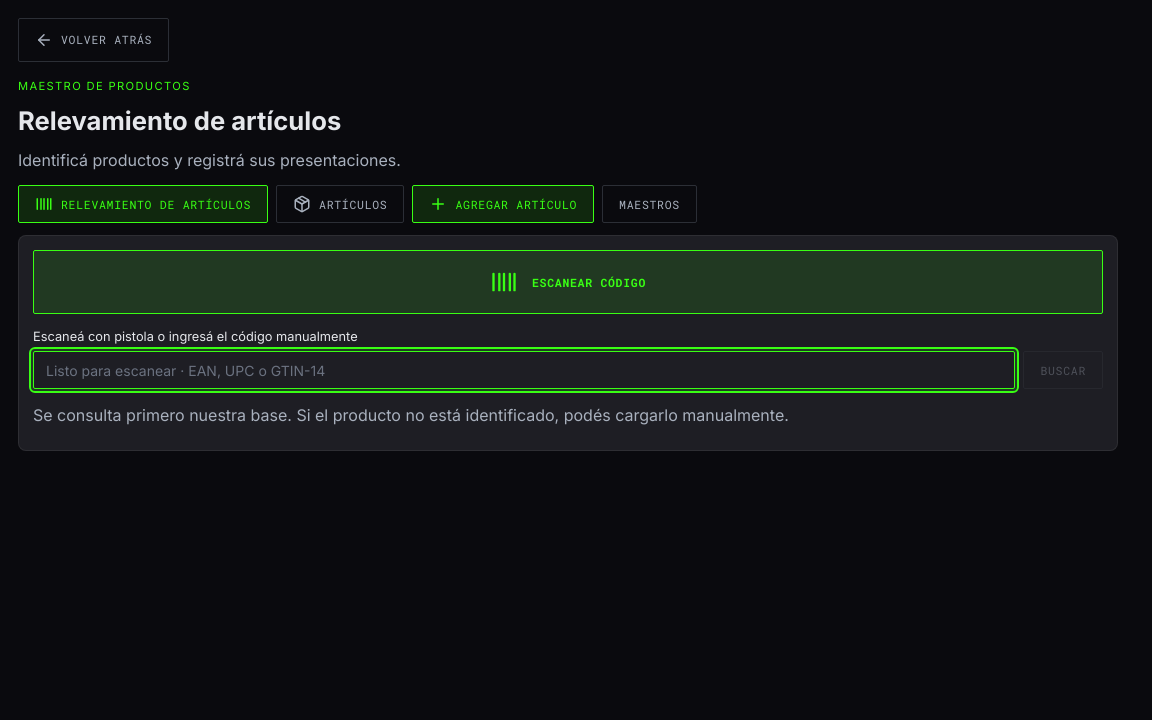
flujo artículos › vacía y vuelve a enfocar la entrada si una lectura de pistola no puede consultarse
This screenshot has width=1152, height=720.
In the field labelled "Escaneá con pistola o ingresá el código manualmente": (524, 370) [33,352,1015,390], type "012345678905"
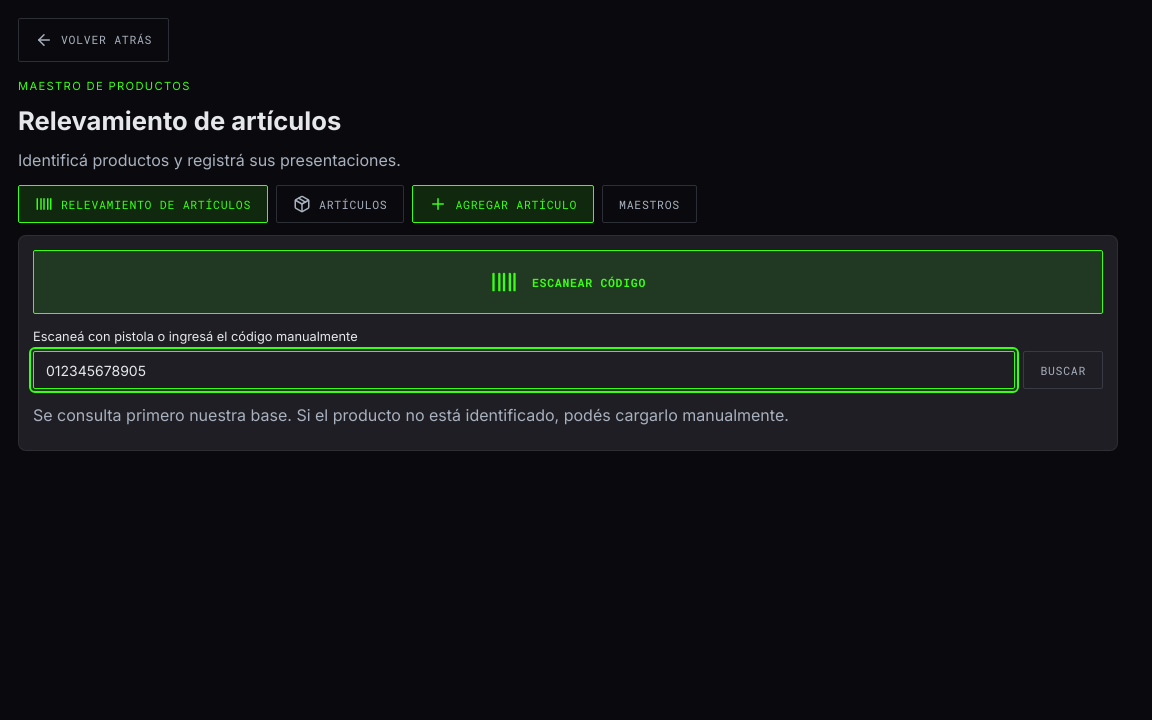
Submit the form labelled "Escaneá con pistola o ingresá el código manualmente", box [33,328,1103,390]
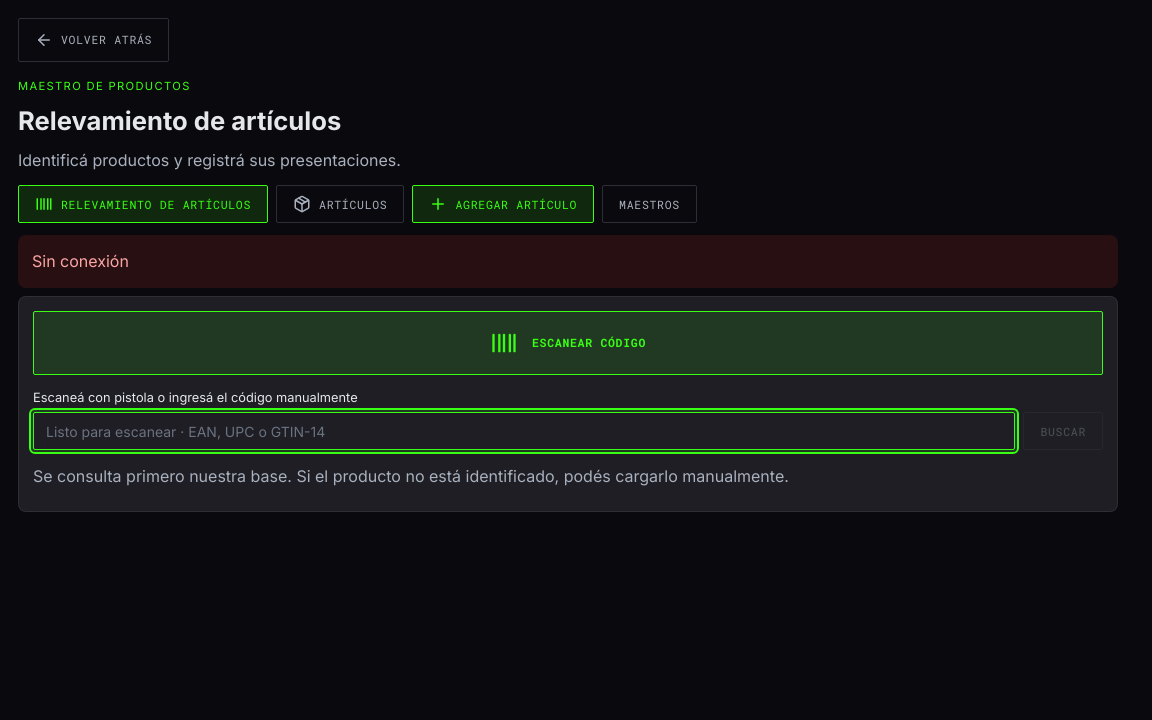
expect the text "Sin conexión" is shown: met, box [18,235,1118,288]
expect the field labelled "Escaneá con pistola o ingresá el código manualmente" is empty: met, box [33,412,1015,450]
